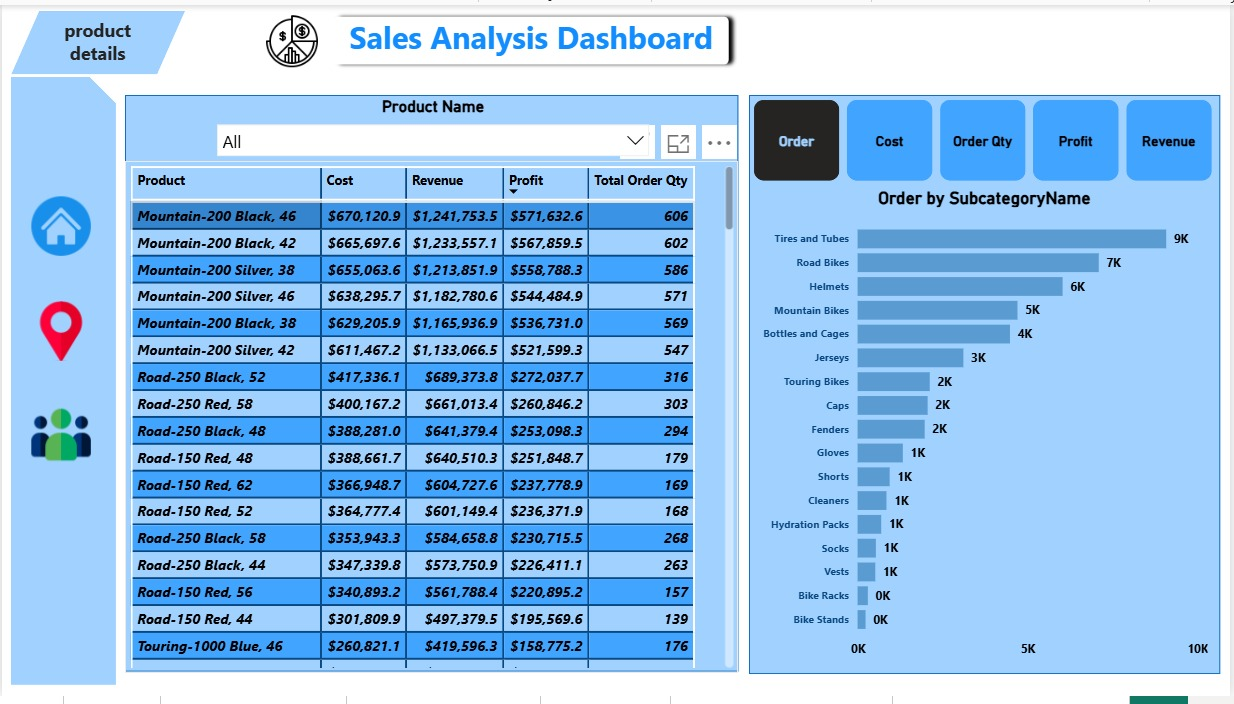

Layout of this report page (visuals, bound fields, positions):
{"tool":"powerbi","page":{"name":"Product Details","canvas":[1280,720],"ordinal":2},"visuals":[{"type":"shape","box":[8.6,74.9,109.4,633.6],"z":1000},{"type":"shape","box":[8.6,5.8,181.4,66.2],"z":2000},{"type":"textbox","box":[38.9,7.2,121,64.8],"z":3000},{"type":"shape","box":[128.9,94,639.1,600.8],"z":4000},{"type":"tableEx","fields":{"Values":["Product Lookup.ProductName","_Measure Table.Total Cost","_Measure Table.Total Revenue","_Measure Table.Total Profit","_Measure Table.Total Order Qty"]},"box":[128.9,162,639.1,532.9],"z":5000},{"type":"shape","box":[777.6,93.6,491,603.4],"z":6000},{"type":"slicer","title":"Product Name","fields":{"Values":["Product Lookup.ProductName"]},"box":[214.2,95.8,470.2,64.4],"z":7000},{"type":"clusteredBarChart","fields":{"Y":["_Measure Table.NO of Order"],"Category":["Product Subcategories Lookup.SubcategoryName"]},"box":[786.2,190.1,475,498.2],"z":8000},{"type":"advancedSlicerVisual","fields":{"Values":["KPI parameter 2.KPI parameter"]},"box":[778.4,94,491.1,94],"z":9000},{"type":"shape","box":[336.1,2.9,430.1,67.9],"z":10000},{"type":"textbox","box":[343.1,6.4,418,62.7],"z":11000},{"type":"image","box":[268.2,3.5,66.2,69.7],"z":12000},{"type":"actionButton","box":[26.4,195.8,70,70],"z":13000},{"type":"actionButton","box":[26.4,304.6,70,70],"z":14000},{"type":"actionButton","box":[26.4,413.3,70,70],"z":15000}]}

Visuals, with their boxes in screenshot pixels (x1, y1, x2, y2), scaled from the page's 1280x720 canvas onto the 1234x704 screenshot:
shape: {"x1": 8, "y1": 73, "x2": 114, "y2": 693}
shape: {"x1": 8, "y1": 6, "x2": 183, "y2": 70}
textbox: {"x1": 38, "y1": 7, "x2": 154, "y2": 70}
shape: {"x1": 124, "y1": 92, "x2": 740, "y2": 679}
tableEx - Product Lookup.ProductName x _Measure Table.Total Cost: {"x1": 124, "y1": 158, "x2": 740, "y2": 679}
shape: {"x1": 750, "y1": 92, "x2": 1223, "y2": 682}
"Product Name" slicer: {"x1": 207, "y1": 94, "x2": 660, "y2": 157}
clusteredBarChart - _Measure Table.NO of Order x Product Subcategories Lookup.SubcategoryName: {"x1": 758, "y1": 186, "x2": 1216, "y2": 673}
advancedSlicerVisual - KPI parameter 2.KPI parameter: {"x1": 750, "y1": 92, "x2": 1224, "y2": 184}
shape: {"x1": 324, "y1": 3, "x2": 739, "y2": 69}
textbox: {"x1": 331, "y1": 6, "x2": 734, "y2": 68}
image: {"x1": 259, "y1": 3, "x2": 322, "y2": 72}
actionButton: {"x1": 25, "y1": 191, "x2": 93, "y2": 260}
actionButton: {"x1": 25, "y1": 298, "x2": 93, "y2": 366}
actionButton: {"x1": 25, "y1": 404, "x2": 93, "y2": 473}
